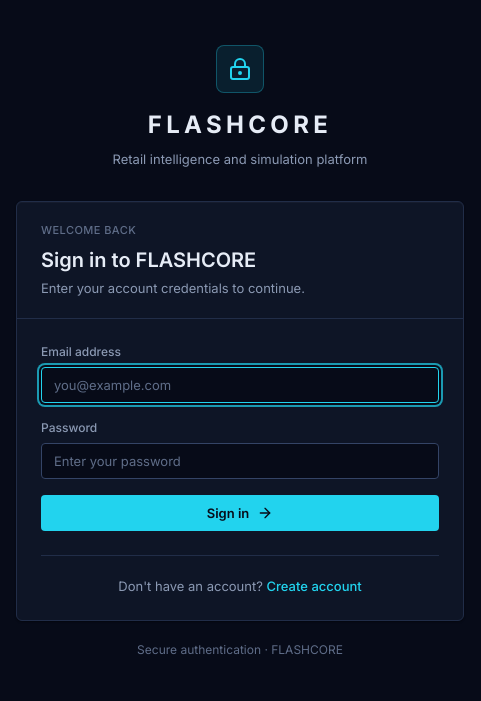
LoginPage › shows a server authentication error
Type "analyst@flashcore.test" into the field labelled "Email address".
click(240, 385); type("analyst@flashcore.test")  # box [41,367,439,403]
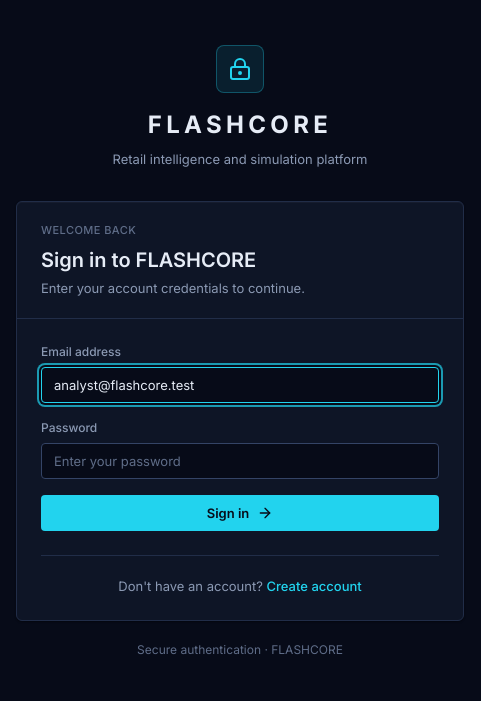
Type "incorrect-password" into the password field labelled "Password".
click(240, 461); type("incorrect-password")  # box [41,443,439,479]
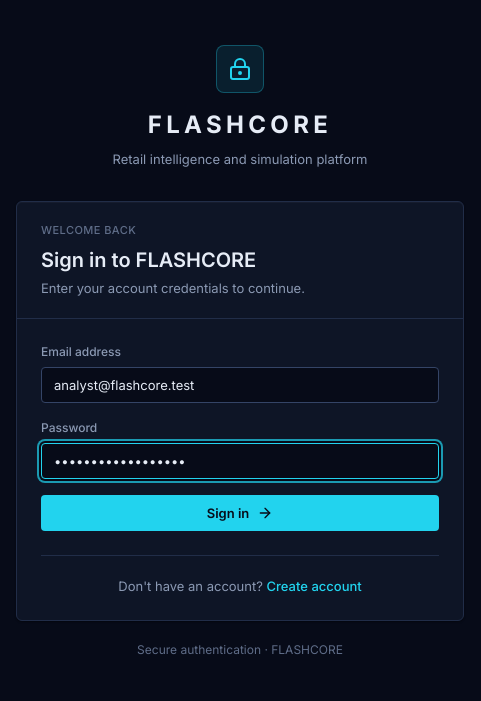
Click the button "Sign in".
click(240, 513)  # box [41,495,439,531]
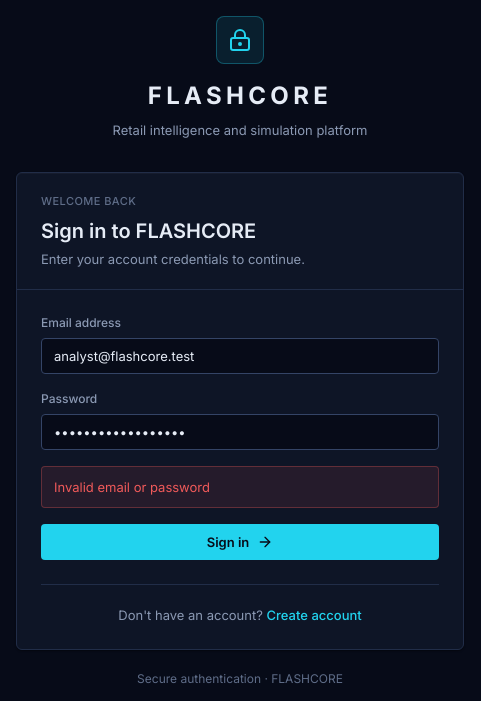
Now the message reads "Invalid email or password", box [54,479,210,495]
